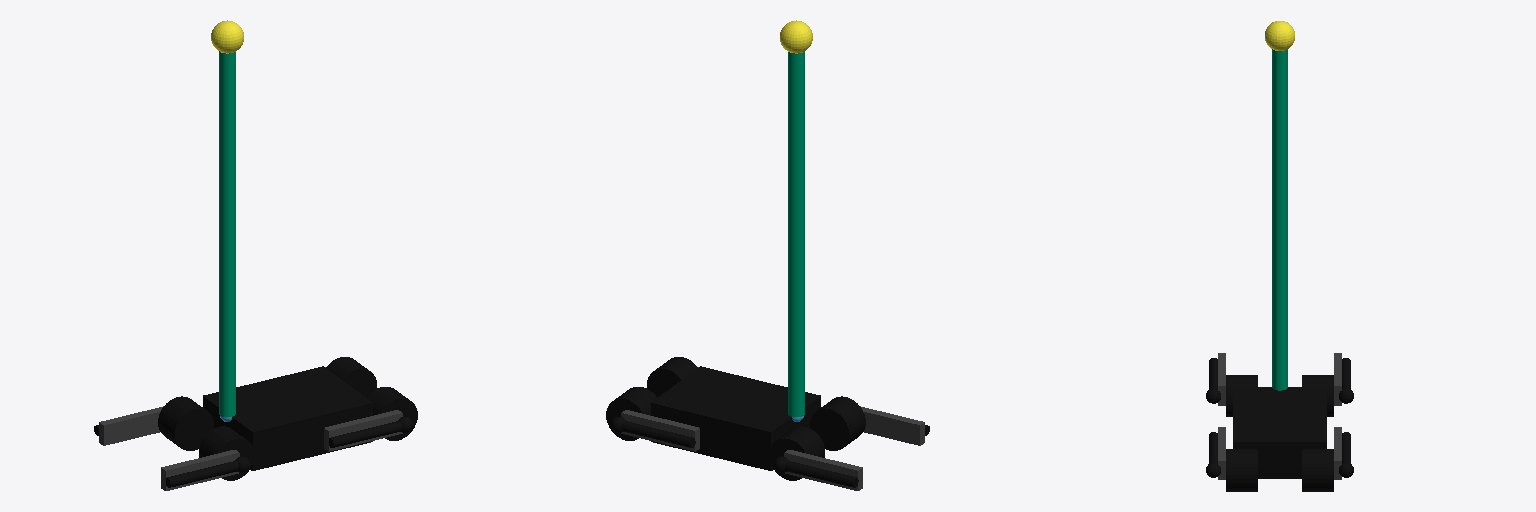
robot.urdf — ngr:
<?xml version="1.0" ?>
<!-- =================================================================================== -->
<!-- |    This document was autogenerated by xacro from spirit.urdf.xacro              | -->
<!-- |    EDITING THIS FILE BY HAND IS NOT RECOMMENDED                                 | -->
<!-- =================================================================================== -->
<!-- 
MIT License (modified)

Copyright (c) 2020 Ghost Robotics
Authors:
[author] <[email redacted]>
[author] <[email redacted]>

Permission is hereby granted, free of charge, to any person obtaining a copy
of this **file** (the "Software"), to deal
in the Software without restriction, including without limitation the rights
to use, copy, modify, merge, publish, distribute, sublicense, and/or sell
copies of the Software, and to permit persons to whom the Software is
furnished to do so, subject to the following conditions:

The above copyright notice and this permission notice shall be included in all
copies or substantial portions of the Software.

THE SOFTWARE IS PROVIDED "AS IS", WITHOUT WARRANTY OF ANY KIND, EXPRESS OR
IMPLIED, INCLUDING BUT NOT LIMITED TO THE WARRANTIES OF MERCHANTABILITY,
FITNESS FOR A PARTICULAR PURPOSE AND NONINFRINGEMENT. IN NO EVENT SHALL THE
AUTHORS OR COPYRIGHT [author] ANY CLAIM, DAMAGES OR OTHER
LIABILITY, WHETHER IN AN ACTION OF CONTRACT, TORT OR OTHERWISE, ARISING FROM,
OUT OF OR IN CONNECTION WITH THE SOFTWARE OR THE USE OR OTHER DEALINGS IN THE
SOFTWARE. 
-->
<robot name="ngr" xmlns:xacro="http://www.ros.org/wiki/xacro">
  <!-- Define parameters -->
  <!-- bodyLength + hipdx should be equal to front to back hip distance -->
  <!-- dy +  dPodAxisToEdge + upperLegWidth should be equal to the center to toe distance along y axis-->
  <!-- guess -->
  <!-- guess -->
  <!-- guess -->
  <!-- guess -->
  <!-- guess -->
  <!-- guess -->
  <!--visual only-->
  <!--center of pod cylinder to the ab axis-->
  <!-- Define materials -->
  <material name="darkgray">
    <color rgba="0.1 0.1 0.1 1.0"/>
  </material>
  <material name="silver">
    <color rgba="0.3 0.3 0.3 1.0"/>
  </material>
  <material name="red">
    <color rgba="0.8 0.0 0.2 1.0"/>
  </material>
  <!-- Body -->
  <link name="body">
    <visual>
      <origin rpy="0 0 0" xyz="0 0 0"/>
      <geometry>
        <box size="0.335 0.24 0.104"/>
      </geometry>
      <material name="darkgray"/>
    </visual>
    <inertial>
      <mass value="5.75"/>
      <!-- Uniform box -->
      <!-- <inertia ixx="1/12*${bodyMass}*(${bodyWidth}*${bodyWidth} + ${bodyHeight}*${bodyHeight})"  ixy="0"  ixz="0" iyy="1/12*${bodyMass}*(${bodyLength}*${bodyLength} + ${bodyHeight}*${bodyHeight})" iyz="0" izz="1/12*${bodyMass}*(${bodyLength}*${bodyLength} + ${bodyWidth}*${bodyWidth})"/> -->
      <inertia ixx="0.05" ixy="0" ixz="0" iyy="0.1" iyz="0" izz="0.1"/>
    </inertial>
    <!-- Just copy geometry for collision -->
    <collision>
      <origin rpy="0 0 0" xyz="0 0 0"/>
      <geometry>
        <box size="0.335 0.24 0.104"/>
      </geometry>
    </collision>
  </link>
  <!-- Define our leg macro -->
  <!-- Our four legs -->
  <!-- Hip motor -->
  <link name="hip0">
    <visual>
      <origin rpy="1.5707963268 0 0" xyz="0.0 0.028 0"/>
      <geometry>
        <cylinder length="0.08" radius="0.055"/>
      </geometry>
      <material name="darkgray"/>
    </visual>
    <collision>
      <origin rpy="1.5707963268 0 0" xyz="0 0.028 0"/>
      <geometry>
        <cylinder length="0.08" radius="0.055"/>
      </geometry>
    </collision>
    <inertial>
      <mass value="0.575"/>
      <!-- <inertia ixx="1/12*${podMass}*${podLength}*${podLength} + 1/4*${podMass}*${podRadius}*${podRadius}"  ixy="0"  ixz="0" iyy="1/12*${podMass}*${podLength}*${podLength} + 1/4*${podMass}*${podRadius}*${podRadius}" iyz="0" izz="1/2*${podMass}*${podRadius}*$
				{podRadius}" /> -->
      <inertia ixx="0.00066963541" ixy="0" ixz="0" iyy="0.00066963541" iyz="0" izz="0.0008696875"/>
    </inertial>
  </link>
  <!-- Abduction joint. Joint names are: 8 9 10 11 -->
  <joint name="8" type="revolute">
    <parent link="body"/>
    <child link="hip0"/>
    <axis xyz="1 0 0"/>
    <origin xyz="0.2263 0.07 0"/>
    <limit effort="40" lower="-0.707" upper="0.707" velocity="30"/>
    <dynamics damping="0.0" friction="0.0"/>
  </joint>
  <!-- Upper leg -->
  <link name="upper0">
    <visual>
      <origin rpy="0 0 0" xyz="-0.103 -0.022 0"/>
      <geometry>
        <box size="0.206 0.022 0.055"/>
      </geometry>
      <material name="silver"/>
    </visual>
    <collision>
      <origin rpy="0 0 0" xyz="-0.103 -0.022 0"/>
      <geometry>
        <box size="0.206 0.022 0.055"/>
      </geometry>
    </collision>
    <inertial>
      <mass value="0.775"/>
      <inertia ixx="5e-05" ixy="0" ixz="0" iyy="0.001" iyz="0" izz="0.001"/>
    </inertial>
  </link>
  <!-- Hip joint. (Motor to upper leg). Joint names are: 0 2 4 6 -->
  <joint name="0" type="revolute">
    <parent link="hip0"/>
    <child link="upper0"/>
    <axis xyz="0 -1 0"/>
    <origin xyz="0.0 0.10098 0"/>
    <!--  rpy="0 -0.3 0" -->
    <limit effort="40" lower="-6.28318530718" upper="6.28318530718" velocity="30"/>
    <dynamics damping="0.0" friction="0.0"/>
  </joint>
  <!-- Lower leg -->
  <link name="lower0">
    <visual>
      <origin rpy="0 1.5707963268 0" xyz="0.103 0 0"/>
      <geometry>
        <cylinder length="0.206" radius="0.013"/>
      </geometry>
      <material name="darkgray"/>
    </visual>
    <collision>
      <origin rpy="0 1.5707963268 0" xyz="0.103 0 0"/>
      <geometry>
        <cylinder length="0.206" radius="0.013"/>
      </geometry>
    </collision>
    <inertial>
      <mass value="0.075"/>
      <inertia ixx="5e-06" ixy="0" ixz="0" iyy="0.0001" iyz="0" izz="0.0001"/>
    </inertial>
  </link>
  <!-- Knee joint. Joint names are: 1 3 5 7 -->
  <joint name="1" type="revolute">
    <parent link="upper0"/>
    <child link="lower0"/>
    <axis xyz="0 1 0"/>
    <origin xyz="-0.206 0 0"/>
    <!--rpy="0 0.5 0"-->
    <limit effort="40" lower="0" upper="3.14159265359" velocity="30"/>
    <dynamics damping="0.0" friction="0.0"/>
  </joint>
  <!-- Toe -->
  <link name="toe0">
    <contact>
      <friction_anchor/>
      <stiffness value="30000.0"/>
      <damping value="1000.0"/>
      <spinning_friction value="0.3"/>
      <lateral_friction value="3.0"/>
    </contact>
    <visual>
      <origin rpy="0 0 0" xyz="0 0 0"/>
      <geometry>
        <sphere radius="0.02"/>
      </geometry>
      <material name="darkgray"/>
    </visual>
    <collision>
      <origin rpy="0 0 0" xyz="0 0 0"/>
      <geometry>
        <sphere radius="0.02"/>
      </geometry>
    </collision>
    <inertial>
      <mass value="0.015"/>
      <inertia ixx="0.000025" ixy="0" ixz="0" iyy="0.000025" iyz="0" izz="0.000025"/>
      <!-- <inertia ixx="2/5*${toeMass}*${toeRadius}*${toeRadius}"  ixy="0"  ixz="0" iyy="2/5*${toeMass}*${toeRadius}*${toeRadius}" iyz="0" izz="2/5*${toeMass}*${toeRadius}*${toeRadius}" /> -->
    </inertial>
  </link>
  <joint name="jtoe0" type="fixed">
    <parent link="lower0"/>
    <child link="toe0"/>
    <origin xyz="0.206 0 -0.0"/>
    <dynamics damping="0.0" friction="0.0"/>
  </joint>
  <!-- Hip motor -->
  <link name="hip1">
    <visual>
      <origin rpy="1.5707963268 0 0" xyz="-0.0 0.028 0"/>
      <geometry>
        <cylinder length="0.08" radius="0.055"/>
      </geometry>
      <material name="darkgray"/>
    </visual>
    <collision>
      <origin rpy="1.5707963268 0 0" xyz="0 0.028 0"/>
      <geometry>
        <cylinder length="0.08" radius="0.055"/>
      </geometry>
    </collision>
    <inertial>
      <mass value="0.575"/>
      <!-- <inertia ixx="1/12*${podMass}*${podLength}*${podLength} + 1/4*${podMass}*${podRadius}*${podRadius}"  ixy="0"  ixz="0" iyy="1/12*${podMass}*${podLength}*${podLength} + 1/4*${podMass}*${podRadius}*${podRadius}" iyz="0" izz="1/2*${podMass}*${podRadius}*$
				{podRadius}" /> -->
      <inertia ixx="0.00066963541" ixy="0" ixz="0" iyy="0.00066963541" iyz="0" izz="0.0008696875"/>
    </inertial>
  </link>
  <!-- Abduction joint. Joint names are: 8 9 10 11 -->
  <joint name="9" type="revolute">
    <parent link="body"/>
    <child link="hip1"/>
    <axis xyz="1 0 0"/>
    <origin xyz="-0.2263 0.07 0"/>
    <limit effort="40" lower="-0.707" upper="0.707" velocity="30"/>
    <dynamics damping="0.0" friction="0.0"/>
  </joint>
  <!-- Upper leg -->
  <link name="upper1">
    <visual>
      <origin rpy="0 0 0" xyz="-0.103 -0.022 0"/>
      <geometry>
        <box size="0.206 0.022 0.055"/>
      </geometry>
      <material name="silver"/>
    </visual>
    <collision>
      <origin rpy="0 0 0" xyz="-0.103 -0.022 0"/>
      <geometry>
        <box size="0.206 0.022 0.055"/>
      </geometry>
    </collision>
    <inertial>
      <mass value="0.775"/>
      <inertia ixx="5e-05" ixy="0" ixz="0" iyy="0.001" iyz="0" izz="0.001"/>
    </inertial>
  </link>
  <!-- Hip joint. (Motor to upper leg). Joint names are: 0 2 4 6 -->
  <joint name="2" type="revolute">
    <parent link="hip1"/>
    <child link="upper1"/>
    <axis xyz="0 -1 0"/>
    <origin xyz="-0.0 0.10098 0"/>
    <!--  rpy="0 -0.3 0" -->
    <limit effort="40" lower="-6.28318530718" upper="6.28318530718" velocity="30"/>
    <dynamics damping="0.0" friction="0.0"/>
  </joint>
  <!-- Lower leg -->
  <link name="lower1">
    <visual>
      <origin rpy="0 1.5707963268 0" xyz="0.103 0 0"/>
      <geometry>
        <cylinder length="0.206" radius="0.013"/>
      </geometry>
      <material name="darkgray"/>
    </visual>
    <collision>
      <origin rpy="0 1.5707963268 0" xyz="0.103 0 0"/>
      <geometry>
        <cylinder length="0.206" radius="0.013"/>
      </geometry>
    </collision>
    <inertial>
      <mass value="0.075"/>
      <inertia ixx="5e-06" ixy="0" ixz="0" iyy="0.0001" iyz="0" izz="0.0001"/>
    </inertial>
  </link>
  <!-- Knee joint. Joint names are: 1 3 5 7 -->
  <joint name="3" type="revolute">
    <parent link="upper1"/>
    <child link="lower1"/>
    <axis xyz="0 1 0"/>
    <origin xyz="-0.206 0 0"/>
    <!--rpy="0 0.5 0"-->
    <limit effort="40" lower="0" upper="3.14159265359" velocity="30"/>
    <dynamics damping="0.0" friction="0.0"/>
  </joint>
  <!-- Toe -->
  <link name="toe1">
    <contact>
      <friction_anchor/>
      <stiffness value="30000.0"/>
      <damping value="1000.0"/>
      <spinning_friction value="0.3"/>
      <lateral_friction value="3.0"/>
    </contact>
    <visual>
      <origin rpy="0 0 0" xyz="0 0 0"/>
      <geometry>
        <sphere radius="0.02"/>
      </geometry>
      <material name="darkgray"/>
    </visual>
    <collision>
      <origin rpy="0 0 0" xyz="0 0 0"/>
      <geometry>
        <sphere radius="0.02"/>
      </geometry>
    </collision>
    <inertial>
      <mass value="0.015"/>
      <inertia ixx="0.000025" ixy="0" ixz="0" iyy="0.000025" iyz="0" izz="0.000025"/>
      <!-- <inertia ixx="2/5*${toeMass}*${toeRadius}*${toeRadius}"  ixy="0"  ixz="0" iyy="2/5*${toeMass}*${toeRadius}*${toeRadius}" iyz="0" izz="2/5*${toeMass}*${toeRadius}*${toeRadius}" /> -->
    </inertial>
  </link>
  <joint name="jtoe1" type="fixed">
    <parent link="lower1"/>
    <child link="toe1"/>
    <origin xyz="0.206 0 -0.0"/>
    <dynamics damping="0.0" friction="0.0"/>
  </joint>
  <!-- Hip motor -->
  <link name="hip2">
    <visual>
      <origin rpy="1.5707963268 0 0" xyz="0.0 -0.028 0"/>
      <geometry>
        <cylinder length="0.08" radius="0.055"/>
      </geometry>
      <material name="darkgray"/>
    </visual>
    <collision>
      <origin rpy="1.5707963268 0 0" xyz="0 -0.028 0"/>
      <geometry>
        <cylinder length="0.08" radius="0.055"/>
      </geometry>
    </collision>
    <inertial>
      <mass value="0.575"/>
      <!-- <inertia ixx="1/12*${podMass}*${podLength}*${podLength} + 1/4*${podMass}*${podRadius}*${podRadius}"  ixy="0"  ixz="0" iyy="1/12*${podMass}*${podLength}*${podLength} + 1/4*${podMass}*${podRadius}*${podRadius}" iyz="0" izz="1/2*${podMass}*${podRadius}*$
				{podRadius}" /> -->
      <inertia ixx="0.00066963541" ixy="0" ixz="0" iyy="0.00066963541" iyz="0" izz="0.0008696875"/>
    </inertial>
  </link>
  <!-- Abduction joint. Joint names are: 8 9 10 11 -->
  <joint name="10" type="revolute">
    <parent link="body"/>
    <child link="hip2"/>
    <axis xyz="1 0 0"/>
    <origin xyz="0.2263 -0.07 0"/>
    <limit effort="40" lower="-0.707" upper="0.707" velocity="30"/>
    <dynamics damping="0.0" friction="0.0"/>
  </joint>
  <!-- Upper leg -->
  <link name="upper2">
    <visual>
      <origin rpy="0 0 0" xyz="-0.103 0.022 0"/>
      <geometry>
        <box size="0.206 0.022 0.055"/>
      </geometry>
      <material name="silver"/>
    </visual>
    <collision>
      <origin rpy="0 0 0" xyz="-0.103 0.022 0"/>
      <geometry>
        <box size="0.206 0.022 0.055"/>
      </geometry>
    </collision>
    <inertial>
      <mass value="0.775"/>
      <inertia ixx="5e-05" ixy="0" ixz="0" iyy="0.001" iyz="0" izz="0.001"/>
    </inertial>
  </link>
  <!-- Hip joint. (Motor to upper leg). Joint names are: 0 2 4 6 -->
  <joint name="4" type="revolute">
    <parent link="hip2"/>
    <child link="upper2"/>
    <axis xyz="0 -1 0"/>
    <origin xyz="0.0 -0.10098 0"/>
    <!--  rpy="0 -0.3 0" -->
    <limit effort="40" lower="-6.28318530718" upper="6.28318530718" velocity="30"/>
    <dynamics damping="0.0" friction="0.0"/>
  </joint>
  <!-- Lower leg -->
  <link name="lower2">
    <visual>
      <origin rpy="0 1.5707963268 0" xyz="0.103 0 0"/>
      <geometry>
        <cylinder length="0.206" radius="0.013"/>
      </geometry>
      <material name="darkgray"/>
    </visual>
    <collision>
      <origin rpy="0 1.5707963268 0" xyz="0.103 0 0"/>
      <geometry>
        <cylinder length="0.206" radius="0.013"/>
      </geometry>
    </collision>
    <inertial>
      <mass value="0.075"/>
      <inertia ixx="5e-06" ixy="0" ixz="0" iyy="0.0001" iyz="0" izz="0.0001"/>
    </inertial>
  </link>
  <!-- Knee joint. Joint names are: 1 3 5 7 -->
  <joint name="5" type="revolute">
    <parent link="upper2"/>
    <child link="lower2"/>
    <axis xyz="0 1 0"/>
    <origin xyz="-0.206 0 0"/>
    <!--rpy="0 0.5 0"-->
    <limit effort="40" lower="0" upper="3.14159265359" velocity="30"/>
    <dynamics damping="0.0" friction="0.0"/>
  </joint>
  <!-- Toe -->
  <link name="toe2">
    <contact>
      <friction_anchor/>
      <stiffness value="30000.0"/>
      <damping value="1000.0"/>
      <spinning_friction value="0.3"/>
      <lateral_friction value="3.0"/>
    </contact>
    <visual>
      <origin rpy="0 0 0" xyz="0 0 0"/>
      <geometry>
        <sphere radius="0.02"/>
      </geometry>
      <material name="darkgray"/>
    </visual>
    <collision>
      <origin rpy="0 0 0" xyz="0 0 0"/>
      <geometry>
        <sphere radius="0.02"/>
      </geometry>
    </collision>
    <inertial>
      <mass value="0.015"/>
      <inertia ixx="0.000025" ixy="0" ixz="0" iyy="0.000025" iyz="0" izz="0.000025"/>
      <!-- <inertia ixx="2/5*${toeMass}*${toeRadius}*${toeRadius}"  ixy="0"  ixz="0" iyy="2/5*${toeMass}*${toeRadius}*${toeRadius}" iyz="0" izz="2/5*${toeMass}*${toeRadius}*${toeRadius}" /> -->
    </inertial>
  </link>
  <joint name="jtoe2" type="fixed">
    <parent link="lower2"/>
    <child link="toe2"/>
    <origin xyz="0.206 0 -0.0"/>
    <dynamics damping="0.0" friction="0.0"/>
  </joint>
  <!-- Hip motor -->
  <link name="hip3">
    <visual>
      <origin rpy="1.5707963268 0 0" xyz="-0.0 -0.028 0"/>
      <geometry>
        <cylinder length="0.08" radius="0.055"/>
      </geometry>
      <material name="darkgray"/>
    </visual>
    <collision>
      <origin rpy="1.5707963268 0 0" xyz="0 -0.028 0"/>
      <geometry>
        <cylinder length="0.08" radius="0.055"/>
      </geometry>
    </collision>
    <inertial>
      <mass value="0.575"/>
      <!-- <inertia ixx="1/12*${podMass}*${podLength}*${podLength} + 1/4*${podMass}*${podRadius}*${podRadius}"  ixy="0"  ixz="0" iyy="1/12*${podMass}*${podLength}*${podLength} + 1/4*${podMass}*${podRadius}*${podRadius}" iyz="0" izz="1/2*${podMass}*${podRadius}*$
				{podRadius}" /> -->
      <inertia ixx="0.00066963541" ixy="0" ixz="0" iyy="0.00066963541" iyz="0" izz="0.0008696875"/>
    </inertial>
  </link>
  <!-- Abduction joint. Joint names are: 8 9 10 11 -->
  <joint name="11" type="revolute">
    <parent link="body"/>
    <child link="hip3"/>
    <axis xyz="1 0 0"/>
    <origin xyz="-0.2263 -0.07 0"/>
    <limit effort="40" lower="-0.707" upper="0.707" velocity="30"/>
    <dynamics damping="0.0" friction="0.0"/>
  </joint>
  <!-- Upper leg -->
  <link name="upper3">
    <visual>
      <origin rpy="0 0 0" xyz="-0.103 0.022 0"/>
      <geometry>
        <box size="0.206 0.022 0.055"/>
      </geometry>
      <material name="silver"/>
    </visual>
    <collision>
      <origin rpy="0 0 0" xyz="-0.103 0.022 0"/>
      <geometry>
        <box size="0.206 0.022 0.055"/>
      </geometry>
    </collision>
    <inertial>
      <mass value="0.775"/>
      <inertia ixx="5e-05" ixy="0" ixz="0" iyy="0.001" iyz="0" izz="0.001"/>
    </inertial>
  </link>
  <!-- Hip joint. (Motor to upper leg). Joint names are: 0 2 4 6 -->
  <joint name="6" type="revolute">
    <parent link="hip3"/>
    <child link="upper3"/>
    <axis xyz="0 -1 0"/>
    <origin xyz="-0.0 -0.10098 0"/>
    <!--  rpy="0 -0.3 0" -->
    <limit effort="40" lower="-6.28318530718" upper="6.28318530718" velocity="30"/>
    <dynamics damping="0.0" friction="0.0"/>
  </joint>
  <!-- Lower leg -->
  <link name="lower3">
    <visual>
      <origin rpy="0 1.5707963268 0" xyz="0.103 0 0"/>
      <geometry>
        <cylinder length="0.206" radius="0.013"/>
      </geometry>
      <material name="darkgray"/>
    </visual>
    <collision>
      <origin rpy="0 1.5707963268 0" xyz="0.103 0 0"/>
      <geometry>
        <cylinder length="0.206" radius="0.013"/>
      </geometry>
    </collision>
    <inertial>
      <mass value="0.075"/>
      <inertia ixx="5e-06" ixy="0" ixz="0" iyy="0.0001" iyz="0" izz="0.0001"/>
    </inertial>
  </link>
  <!-- Knee joint. Joint names are: 1 3 5 7 -->
  <joint name="7" type="revolute">
    <parent link="upper3"/>
    <child link="lower3"/>
    <axis xyz="0 1 0"/>
    <origin xyz="-0.206 0 0"/>
    <!--rpy="0 0.5 0"-->
    <limit effort="40" lower="0" upper="3.14159265359" velocity="30"/>
    <dynamics damping="0.0" friction="0.0"/>
  </joint>
  <!-- Toe -->
  <link name="toe3">
    <contact>
      <friction_anchor/>
      <stiffness value="30000.0"/>
      <damping value="1000.0"/>
      <spinning_friction value="0.3"/>
      <lateral_friction value="3.0"/>
    </contact>
    <visual>
      <origin rpy="0 0 0" xyz="0 0 0"/>
      <geometry>
        <sphere radius="0.02"/>
      </geometry>
      <material name="darkgray"/>
    </visual>
    <collision>
      <origin rpy="0 0 0" xyz="0 0 0"/>
      <geometry>
        <sphere radius="0.02"/>
      </geometry>
    </collision>
    <inertial>
      <mass value="0.015"/>
      <inertia ixx="0.000025" ixy="0" ixz="0" iyy="0.000025" iyz="0" izz="0.000025"/>
      <!-- <inertia ixx="2/5*${toeMass}*${toeRadius}*${toeRadius}"  ixy="0"  ixz="0" iyy="2/5*${toeMass}*${toeRadius}*${toeRadius}" iyz="0" izz="2/5*${toeMass}*${toeRadius}*${toeRadius}" /> -->
    </inertial>
  </link>
  <joint name="jtoe3" type="fixed">
    <parent link="lower3"/>
    <child link="toe3"/>
    <origin xyz="0.206 0 -0.0"/>
    <dynamics damping="0.0" friction="0.0"/>
  </joint>

  <!-- Tail link -->
  <link name="tail_link_0">
    <visual>
      <origin rpy="0 0 0" xyz="0 0 0"/>
      <geometry>
        <sphere radius="0.02"/>
      </geometry>
      <material name="gray"/>
    </visual>
    <collision>
      <origin rpy="0 0 0" xyz="0 0 0"/>
      <geometry>
        <sphere radius="0.02"/>
      </geometry>
    </collision>
    <inertial>
      <mass value="1e-03"/>
      <inertia ixx="1e-04" ixy="0" ixz="0" iyy="1e-04" iyz="0" izz="1e-04"/>
    </inertial>
  </link>
  <link name="tail_link_1">
    <visual>
      <origin rpy="0 0 0" xyz="0 0 0.5"/>
      <geometry>
        <cylinder length="1.0" radius="0.02"/>
      </geometry>
      <material name="gray"/>
    </visual>
    <collision>
      <origin rpy="0 0 0" xyz="0 0 0.5"/>
      <geometry>
        <cylinder length="1.0" radius="0.02"/>
      </geometry>
    </collision>
    <inertial>
      <mass value="0.025"/>
      <inertia ixx="0.00364583" ixy="0" ixz="0" iyy="0.00364583" iyz="0" izz="0.003125"/>
    </inertial>
  </link>
  <link name="tail_mass">
    <visual>
      <origin rpy="0 0 0" xyz="0 0 0"/>
      <geometry>
        <sphere radius="0.04"/>
      </geometry>
      <material name="gray"/>
    </visual>
    <collision>
      <origin rpy="0 0 0" xyz="0 0 0"/>
      <geometry>
        <sphere radius="0.04"/>
      </geometry>
    </collision>
    <inertial>
      <mass value="0.25"/>
      <inertia ixx="0.025" ixy="0" ixz="0" iyy="0.025" iyz="0" izz="0.025"/>
    </inertial>
  </link>

  <!-- Tail joint -->
  <joint name="body_tail_joint_0" type="revolute">
    <parent link="body"/>
    <child link="tail_link_0"/>
    <axis xyz="1 0 0"/>
    <origin xyz="-0.1675 0 0.052"/>
    <limit effort="10" lower="-1.79769e+308" upper="1.79769e+308" velocity="30"/>
    <dynamics damping="0.0" friction="0.0"/>
  </joint>
  <joint name="body_tail_joint_1" type="revolute">
    <parent link="tail_link_0"/>
    <child link="tail_link_1"/>
    <axis xyz="0 1 0"/>
    <origin xyz="0 0 0"/>
    <limit effort="10" lower="-3.14159" upper="1.57080" velocity="30"/>
    <dynamics damping="0.0" friction="0.0"/>
  </joint>
  <joint name="tail_link_mass_joint" type="fixed">
    <parent link="tail_link_1"/>
    <child link="tail_mass"/>
    <origin xyz="0 0 1"/>
    <dynamics damping="0.0" friction="0.0"/>
  </joint>
</robot>

--- What the picture shows (computed from the rendered views, not written in the file) ---
3 views of the same robot in one strip: view 1: azimuth 30°, elevation 25°; view 2: azimuth 150°, elevation 25°; view 3: azimuth 270°, elevation 25° (orthographic).
Robot: ngr — 20 links, 19 joints (14 revolute, 5 fixed); root link body; default pose: every joint at zero.
Visible links, largest first — view 1: body, tail_link_1, hip1, upper1, hip3, hip2, upper2, upper3, hip0, tail_mass, lower2, lower3; view 2: body, tail_link_1, hip3, upper3, hip1, hip0, upper0, upper1, hip2, tail_mass, lower0, lower1; view 3: body, tail_link_1, hip0, hip2, tail_mass, hip1, hip3.
Link boxes in pixels (<box>): body: <box>203,366,372,470</box>; tail_link_1: <box>219,51,235,416</box>; hip1: <box>158,396,213,450</box>; upper1: <box>99,406,163,445</box>; hip3: <box>199,426,254,480</box>; hip2: <box>367,387,417,440</box>; upper2: <box>324,410,402,451</box>; upper3: <box>161,450,239,490</box>; hip0: <box>326,357,376,397</box>; tail_mass: <box>211,20,243,53</box>; lower2: <box>329,421,401,447</box>; lower3: <box>166,461,238,487</box>; body: <box>651,366,820,470</box>; tail_link_1: <box>788,51,804,416</box>; hip3: <box>810,396,865,450</box>; upper3: <box>860,406,924,445</box>; hip1: <box>769,426,824,480</box>; hip0: <box>606,387,656,440</box>; upper0: <box>621,410,699,451</box>; upper1: <box>784,450,862,490</box>; hip2: <box>647,357,697,397</box>; tail_mass: <box>780,20,812,53</box>; lower0: <box>622,421,695,447</box>; lower1: <box>785,461,858,487</box>; body: <box>1233,387,1326,478</box>; tail_link_1: <box>1272,49,1287,390</box>; hip0: <box>1302,449,1333,491</box>; hip2: <box>1226,449,1257,491</box>; tail_mass: <box>1265,21,1294,50</box>; hip1: <box>1302,375,1333,416</box>; hip3: <box>1226,375,1257,416</box>.
Bounding box of the posed robot: 0.7136 × 0.382 × 1.15 m (x, y, z).
Geometry: primitives only (box / cylinder / sphere), no mesh files.